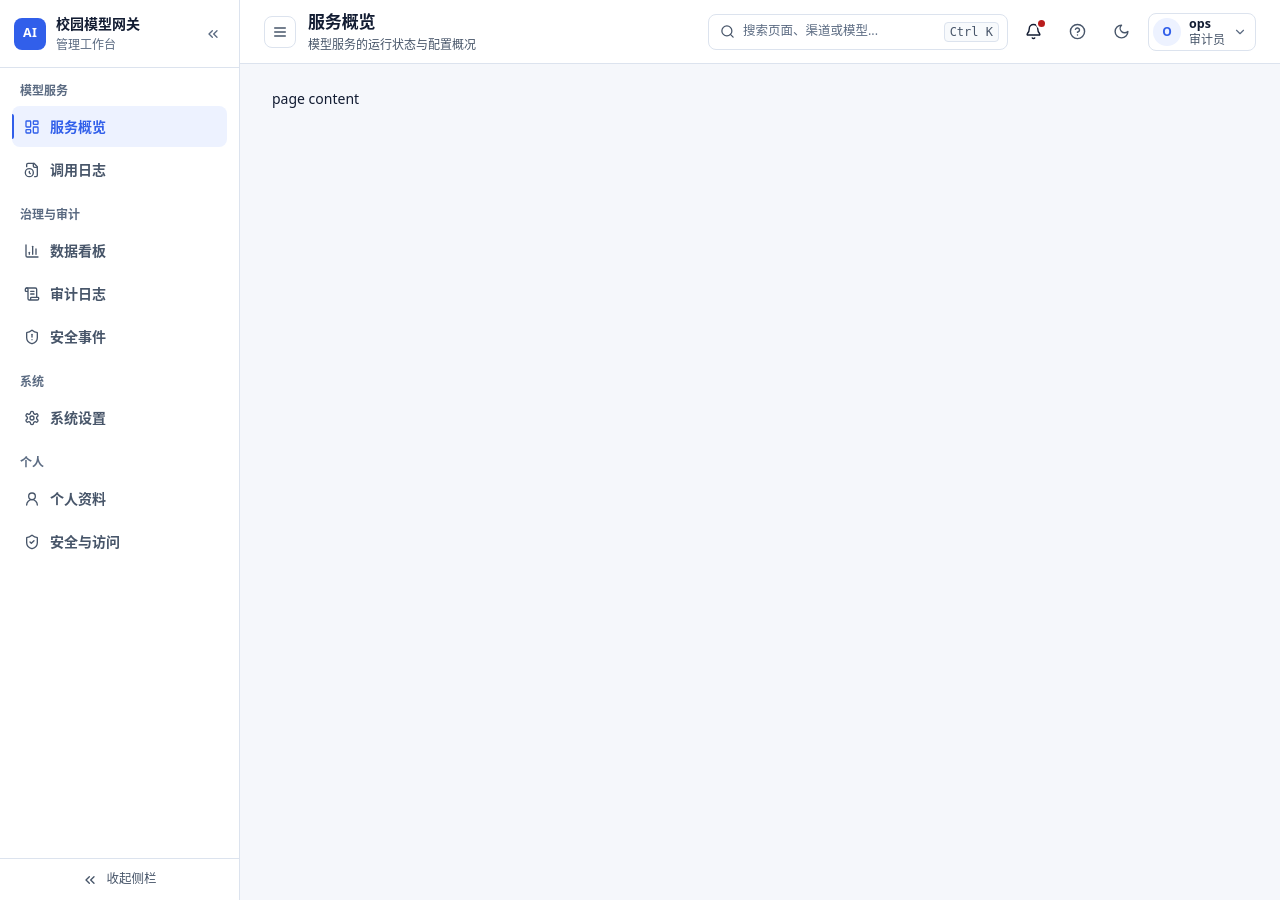
Test: Shell notification surface › renders the security events the gateway returned, with their own age
Expected: the element with class "badgeDot" is shown, [1038,20,1045,26]
Click the button named "系统通知": (1034, 32) [1016,14,1052,50]
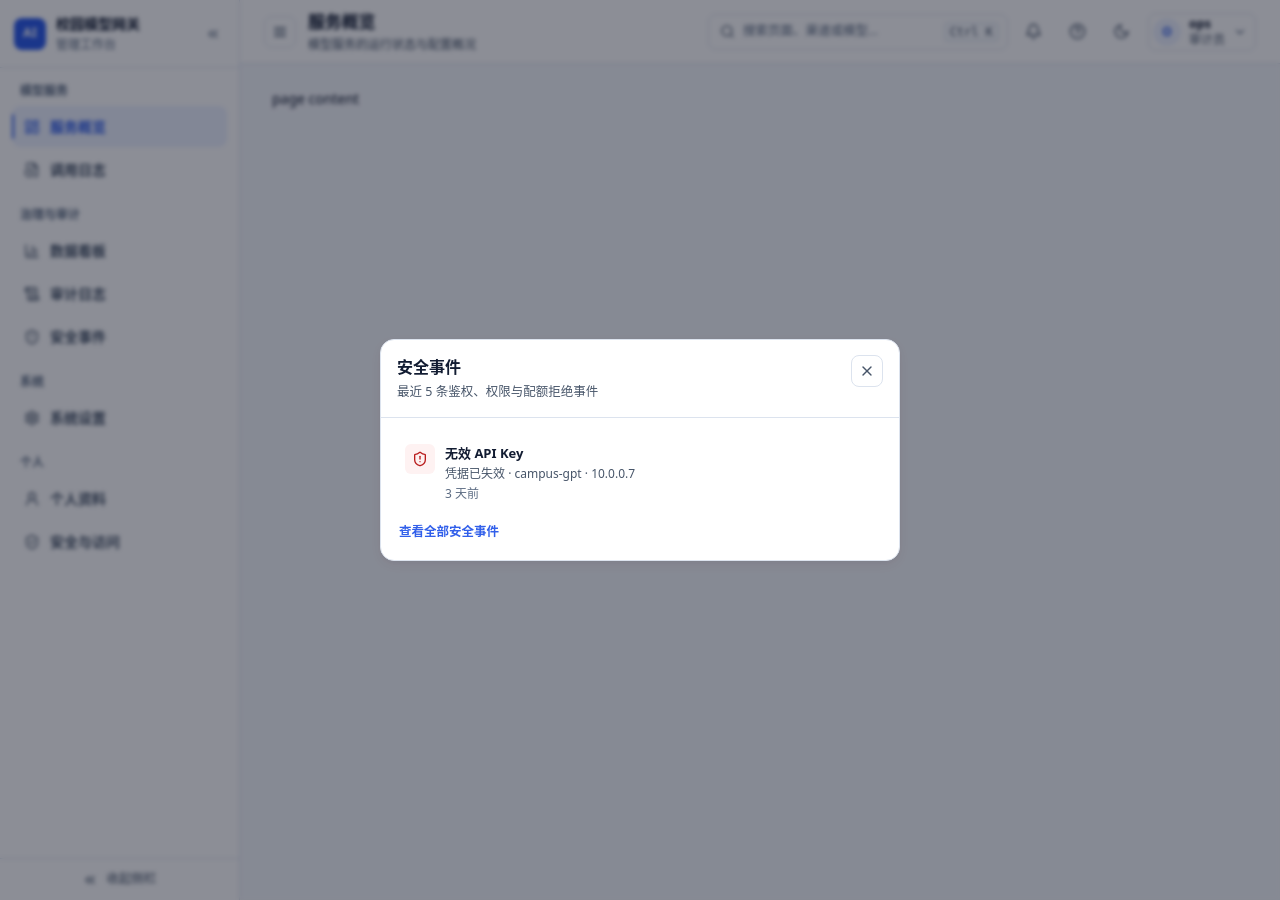
Expected: the text "无效 API Key" is shown, [445,444,523,462]
Expected: the text "凭据已失效 · campus-gpt · 10.0.0.7" is shown, [445,465,635,483]
Expected: the text "3 天前" is shown, [445,485,479,502]
